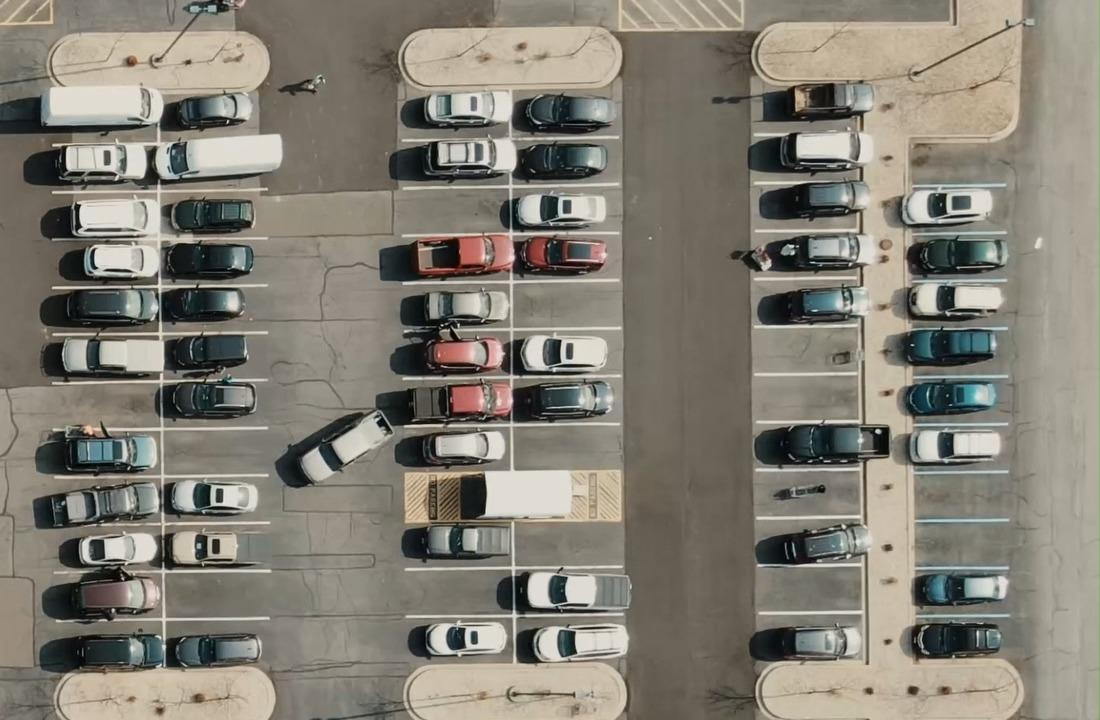car: (274, 407, 394, 488), (152, 132, 283, 182), (753, 420, 890, 466), (732, 232, 874, 272), (39, 84, 164, 128), (48, 480, 159, 527), (754, 521, 872, 565), (517, 569, 632, 612), (410, 233, 515, 278), (69, 567, 160, 618), (516, 622, 629, 663), (406, 380, 513, 423), (757, 284, 869, 325), (758, 179, 870, 220), (748, 622, 862, 662), (59, 336, 162, 378), (52, 141, 150, 184), (778, 129, 874, 172), (499, 192, 606, 230), (906, 236, 1009, 274), (520, 379, 613, 421), (524, 91, 617, 133), (64, 286, 159, 326), (515, 235, 607, 276), (63, 433, 157, 473), (902, 327, 997, 366), (906, 282, 1002, 320), (900, 186, 992, 225), (69, 197, 158, 237), (518, 141, 608, 180), (518, 334, 608, 373), (166, 478, 257, 516), (418, 523, 509, 561), (168, 380, 256, 419), (164, 241, 254, 279), (908, 428, 1000, 465), (421, 138, 502, 180), (168, 632, 262, 668), (420, 334, 506, 373), (786, 81, 874, 119), (904, 379, 996, 415), (912, 621, 1001, 658), (422, 289, 509, 326), (422, 620, 507, 657), (160, 285, 245, 322), (174, 90, 253, 129), (422, 89, 501, 128), (169, 197, 254, 233), (76, 530, 159, 566), (919, 572, 1009, 605), (170, 332, 248, 369), (82, 242, 159, 279)
